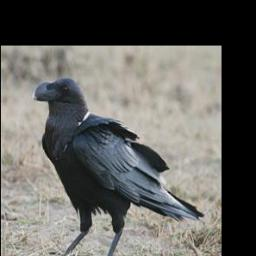Crow: (30, 77, 203, 256)
